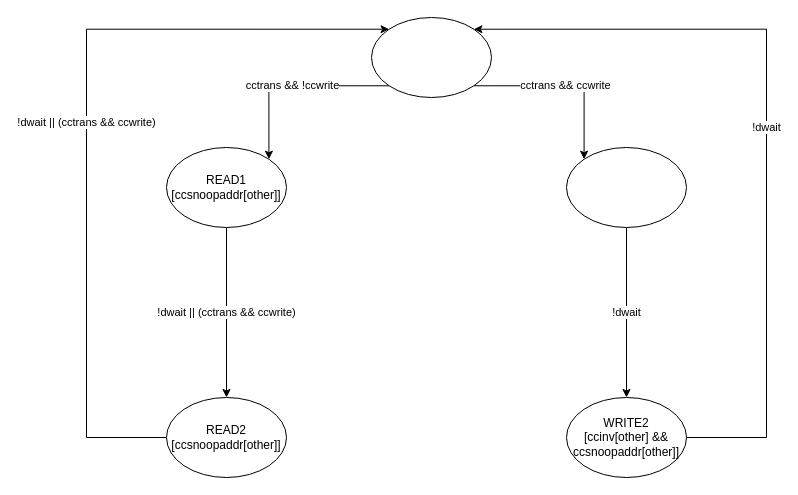
The diagram is 798 pixels wide and 495 high, and some of its shapes have lost their labels. The centre of each missing label's shape, as x and y in pixels:
"WAIT" belongs at point (431, 57).
"WRITE1 [ccinv[other] && ccsnoopaddr[other]]" belongs at point (626, 187).
